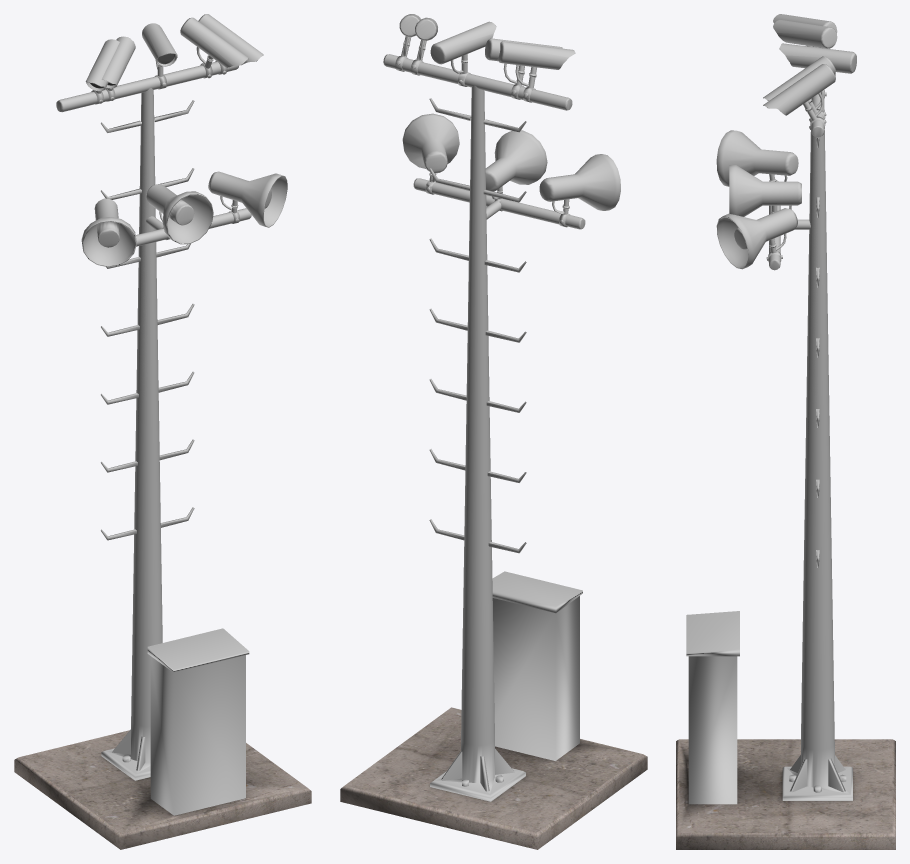
File: kameramast_01.fbx
3 views of the same model, side by side, from view 1: azimuth 30°, elevation 25°; view 2: azimuth 150°, elevation 25°; view 3: azimuth 270°, elevation 25° (orthographic). The views are drawn at different scales.
Parts seen in each view (by area): view 1: Mesh, Mesh_ncl1_2, Mesh_ncl1_1; view 2: Mesh, Mesh_ncl1_1; view 3: Mesh, Mesh_ncl1_1, Mesh_ncl1_2.
Part boxes in pixels (x1,y1,x2,y2): Mesh: (14,14,311,849); Mesh_ncl1_2: (137,88,159,436); Mesh_ncl1_1: (71,17,248,109); Mesh: (340,14,647,849); Mesh_ncl1_1: (402,17,562,107); Mesh: (676,14,895,849); Mesh_ncl1_1: (763,20,837,122); Mesh_ncl1_2: (805,131,817,450).
Bounding box in the file's own units: 189 × 645 × 167.
